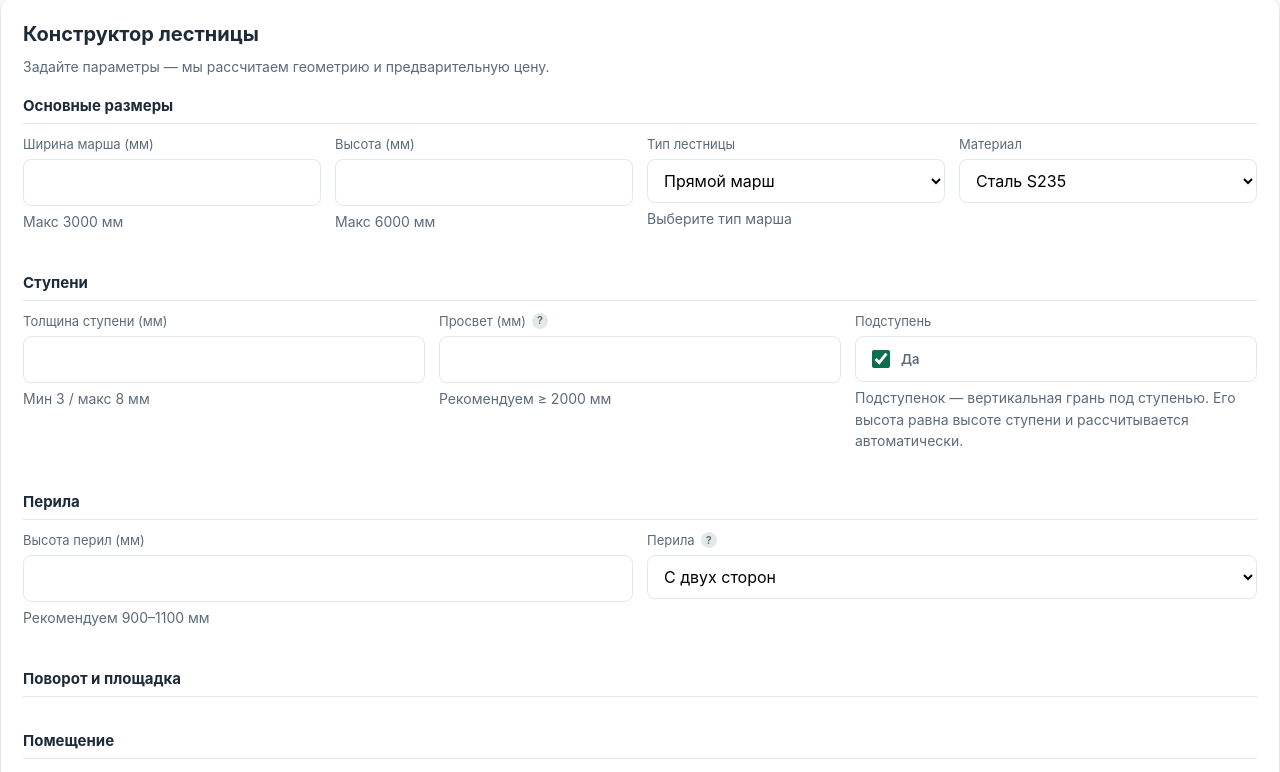
Test: Constructor › высота ступени и шаг комфорта скрыты: рассчитываются автоматически
This screenshot has width=1280, height=772.
Select "L-образная (с площадкой)" in the dropdown labelled "Тип лестницы". click: x=796, y=181
box: [647, 159, 945, 203]
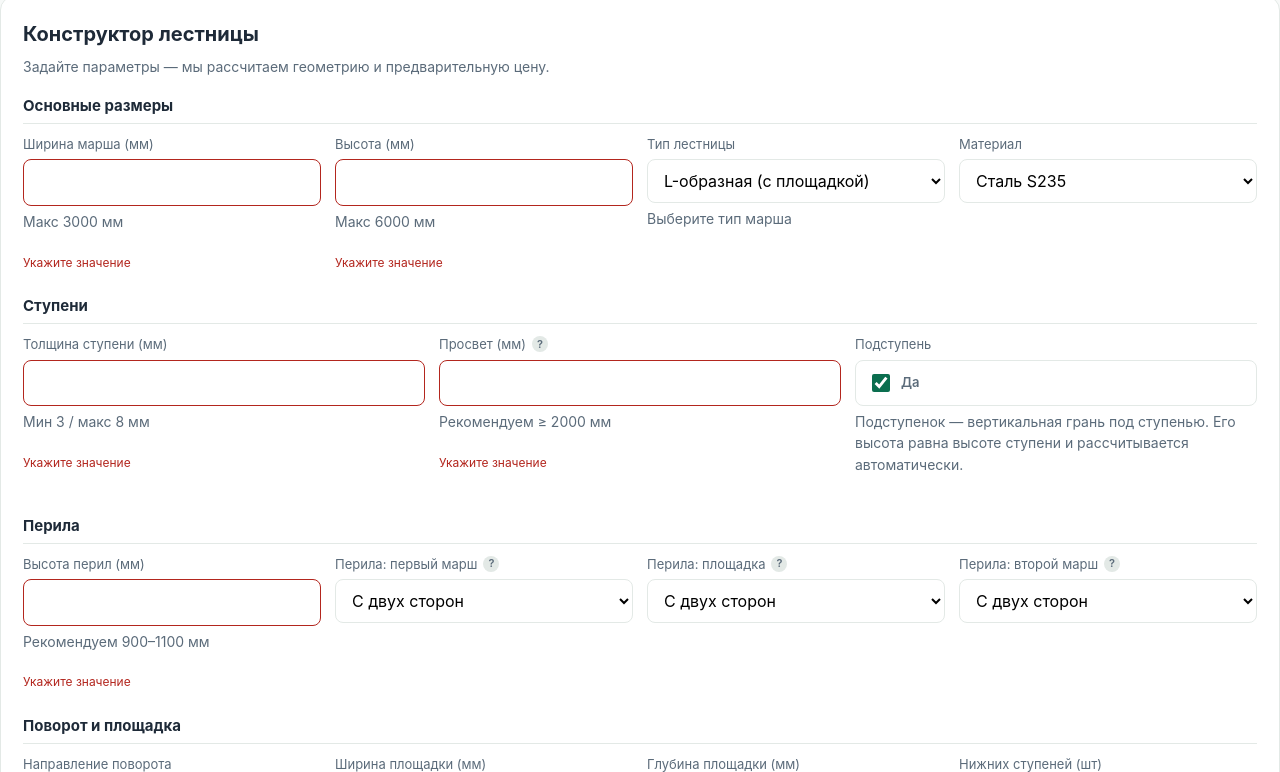
Select "Спиральная (винтовая)" in the dropdown labelled "Тип лестницы". click: x=796, y=181
box: [647, 159, 945, 203]
(page scrolled)
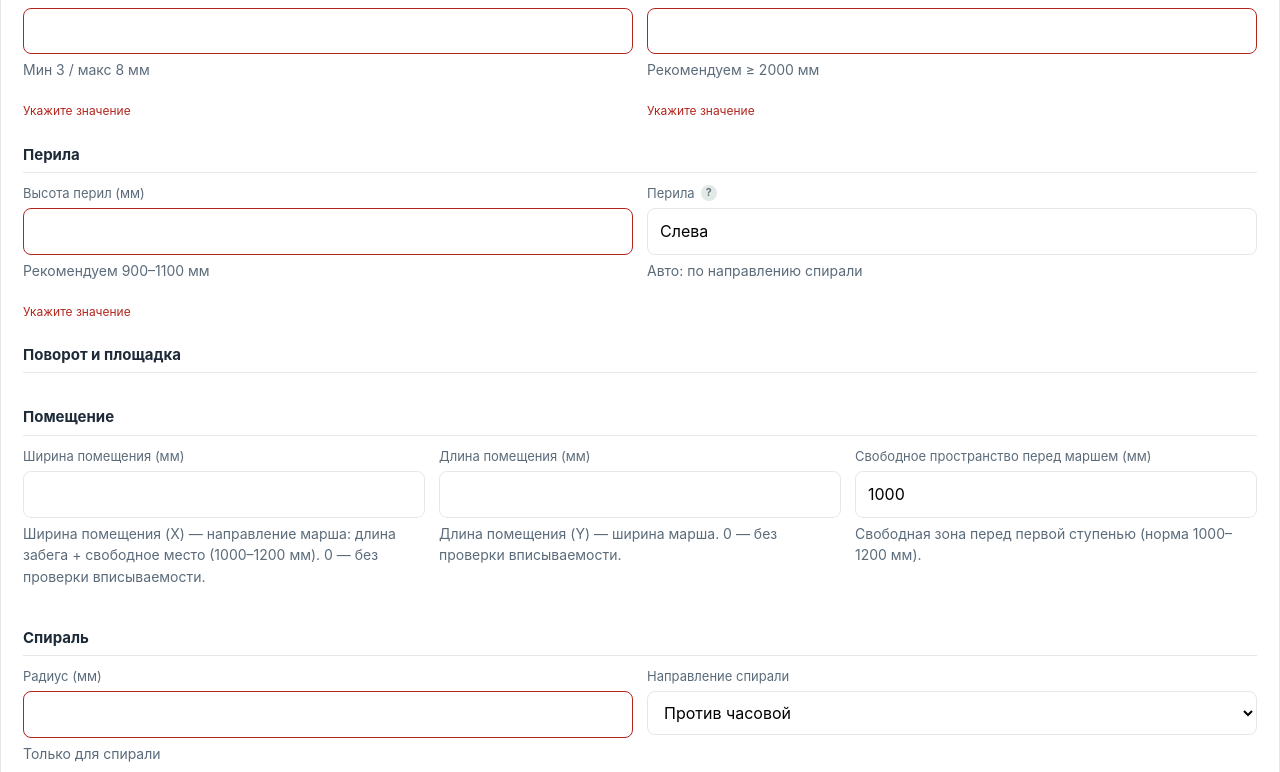
Expected: the field labelled "Радиус (мм)" is shown, [23, 691, 633, 738]
